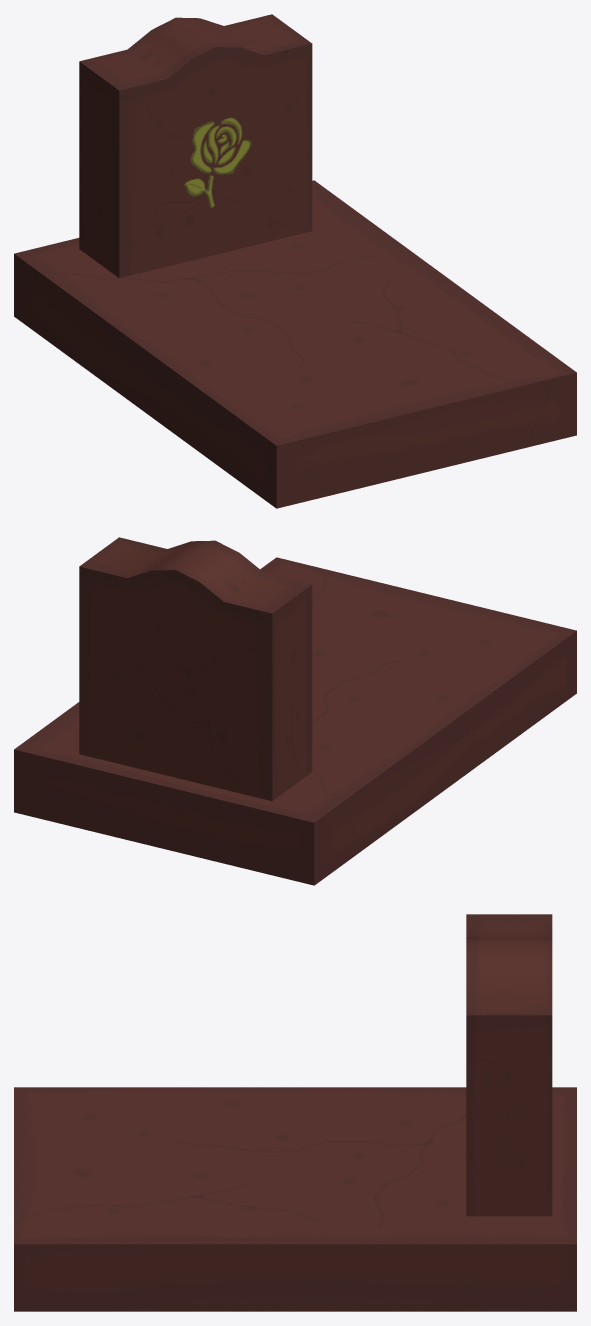
File: Tombstone_04.fbx
The picture shows the model from 3 angles, top to bottom: view 1: azimuth 30°, elevation 25°; view 2: azimuth 150°, elevation 25°; view 3: azimuth 270°, elevation 25°; orthographic projection. The views are drawn at different scales.
Visible parts, largest first — view 1: Tombstone_04; view 2: Tombstone_04; view 3: Tombstone_04.
Part boxes in pixels (x1,y1,x2,y2): Tombstone_04: (14,14,576,508); Tombstone_04: (14,537,576,885); Tombstone_04: (14,914,576,1311).
Size of the model in its own units: 1 by 0.8608 by 1.51.
